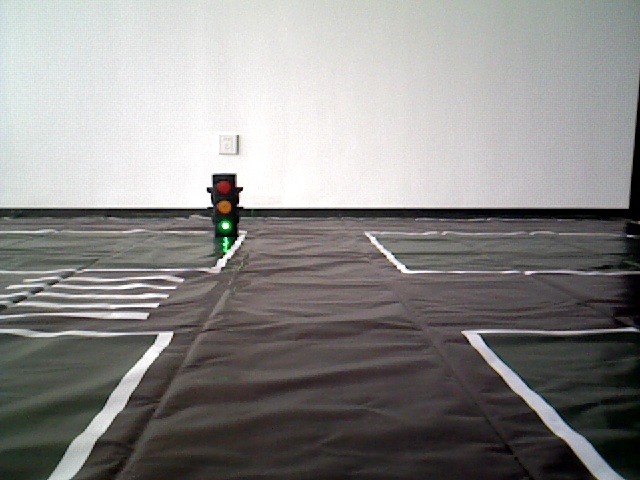green: (209, 172, 234, 230)
